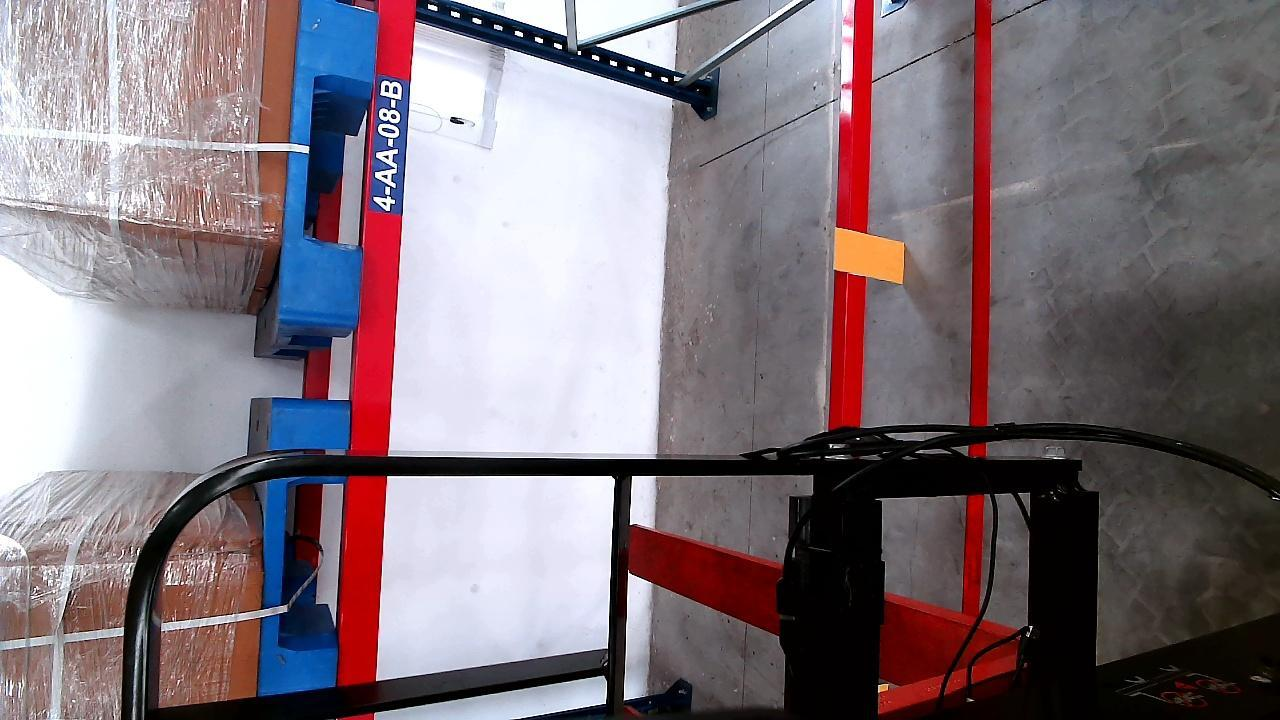red_line: (970, 0, 996, 436)
